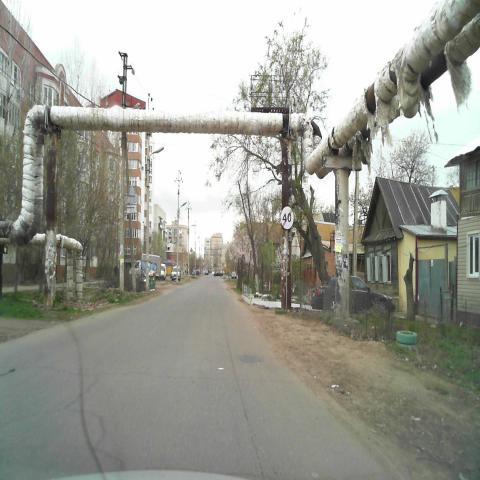3_25: (280, 205, 294, 229)
